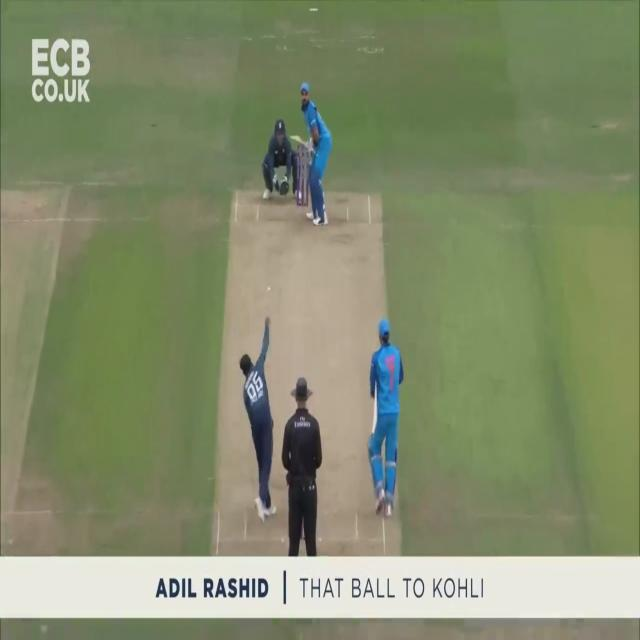ball: (267, 287, 271, 293)
